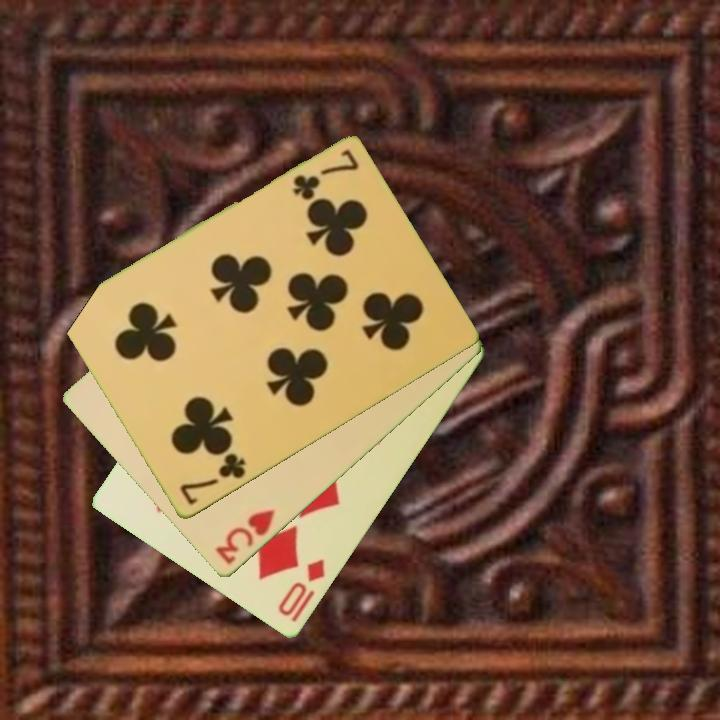10d: (274, 555, 329, 620)
3h: (211, 506, 278, 568)
7c: (176, 450, 249, 509), (289, 147, 362, 203)
